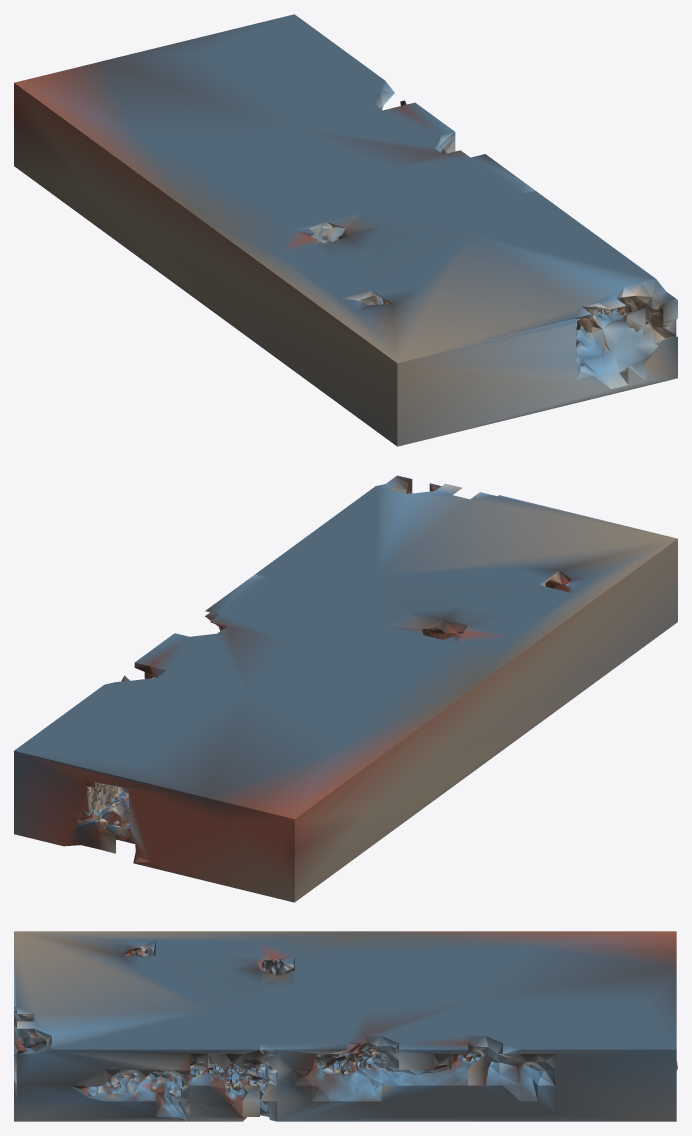
File: floor04.glb
The picture shows the model from 3 angles, top to bottom: view 1: azimuth 30°, elevation 25°; view 2: azimuth 150°, elevation 25°; view 3: azimuth 270°, elevation 25°; orthographic projection. The views are drawn at different scales.
Parts seen in each view (by area): view 1: node_0; view 2: node_0; view 3: node_0.
Part boxes in pixels (bbox=[...]): node_0: bbox=[14, 14, 677, 446]; node_0: bbox=[14, 475, 677, 902]; node_0: bbox=[14, 931, 677, 1121].
Size of the model in its own units: 16.79 by 4.78 by 39.76.
